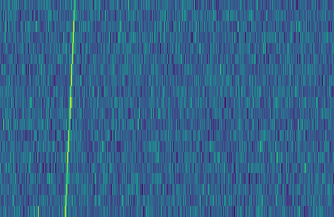signal: (59, 0, 77, 217)
